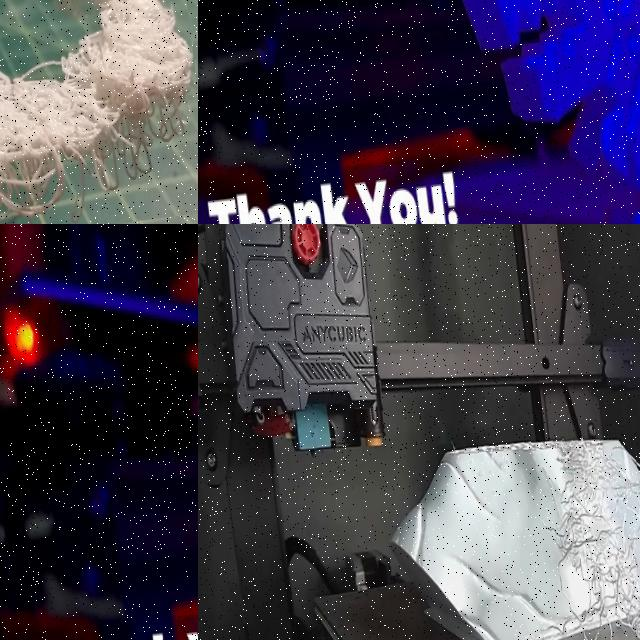spaghetti: (0, 0, 194, 207), (513, 414, 640, 640)
